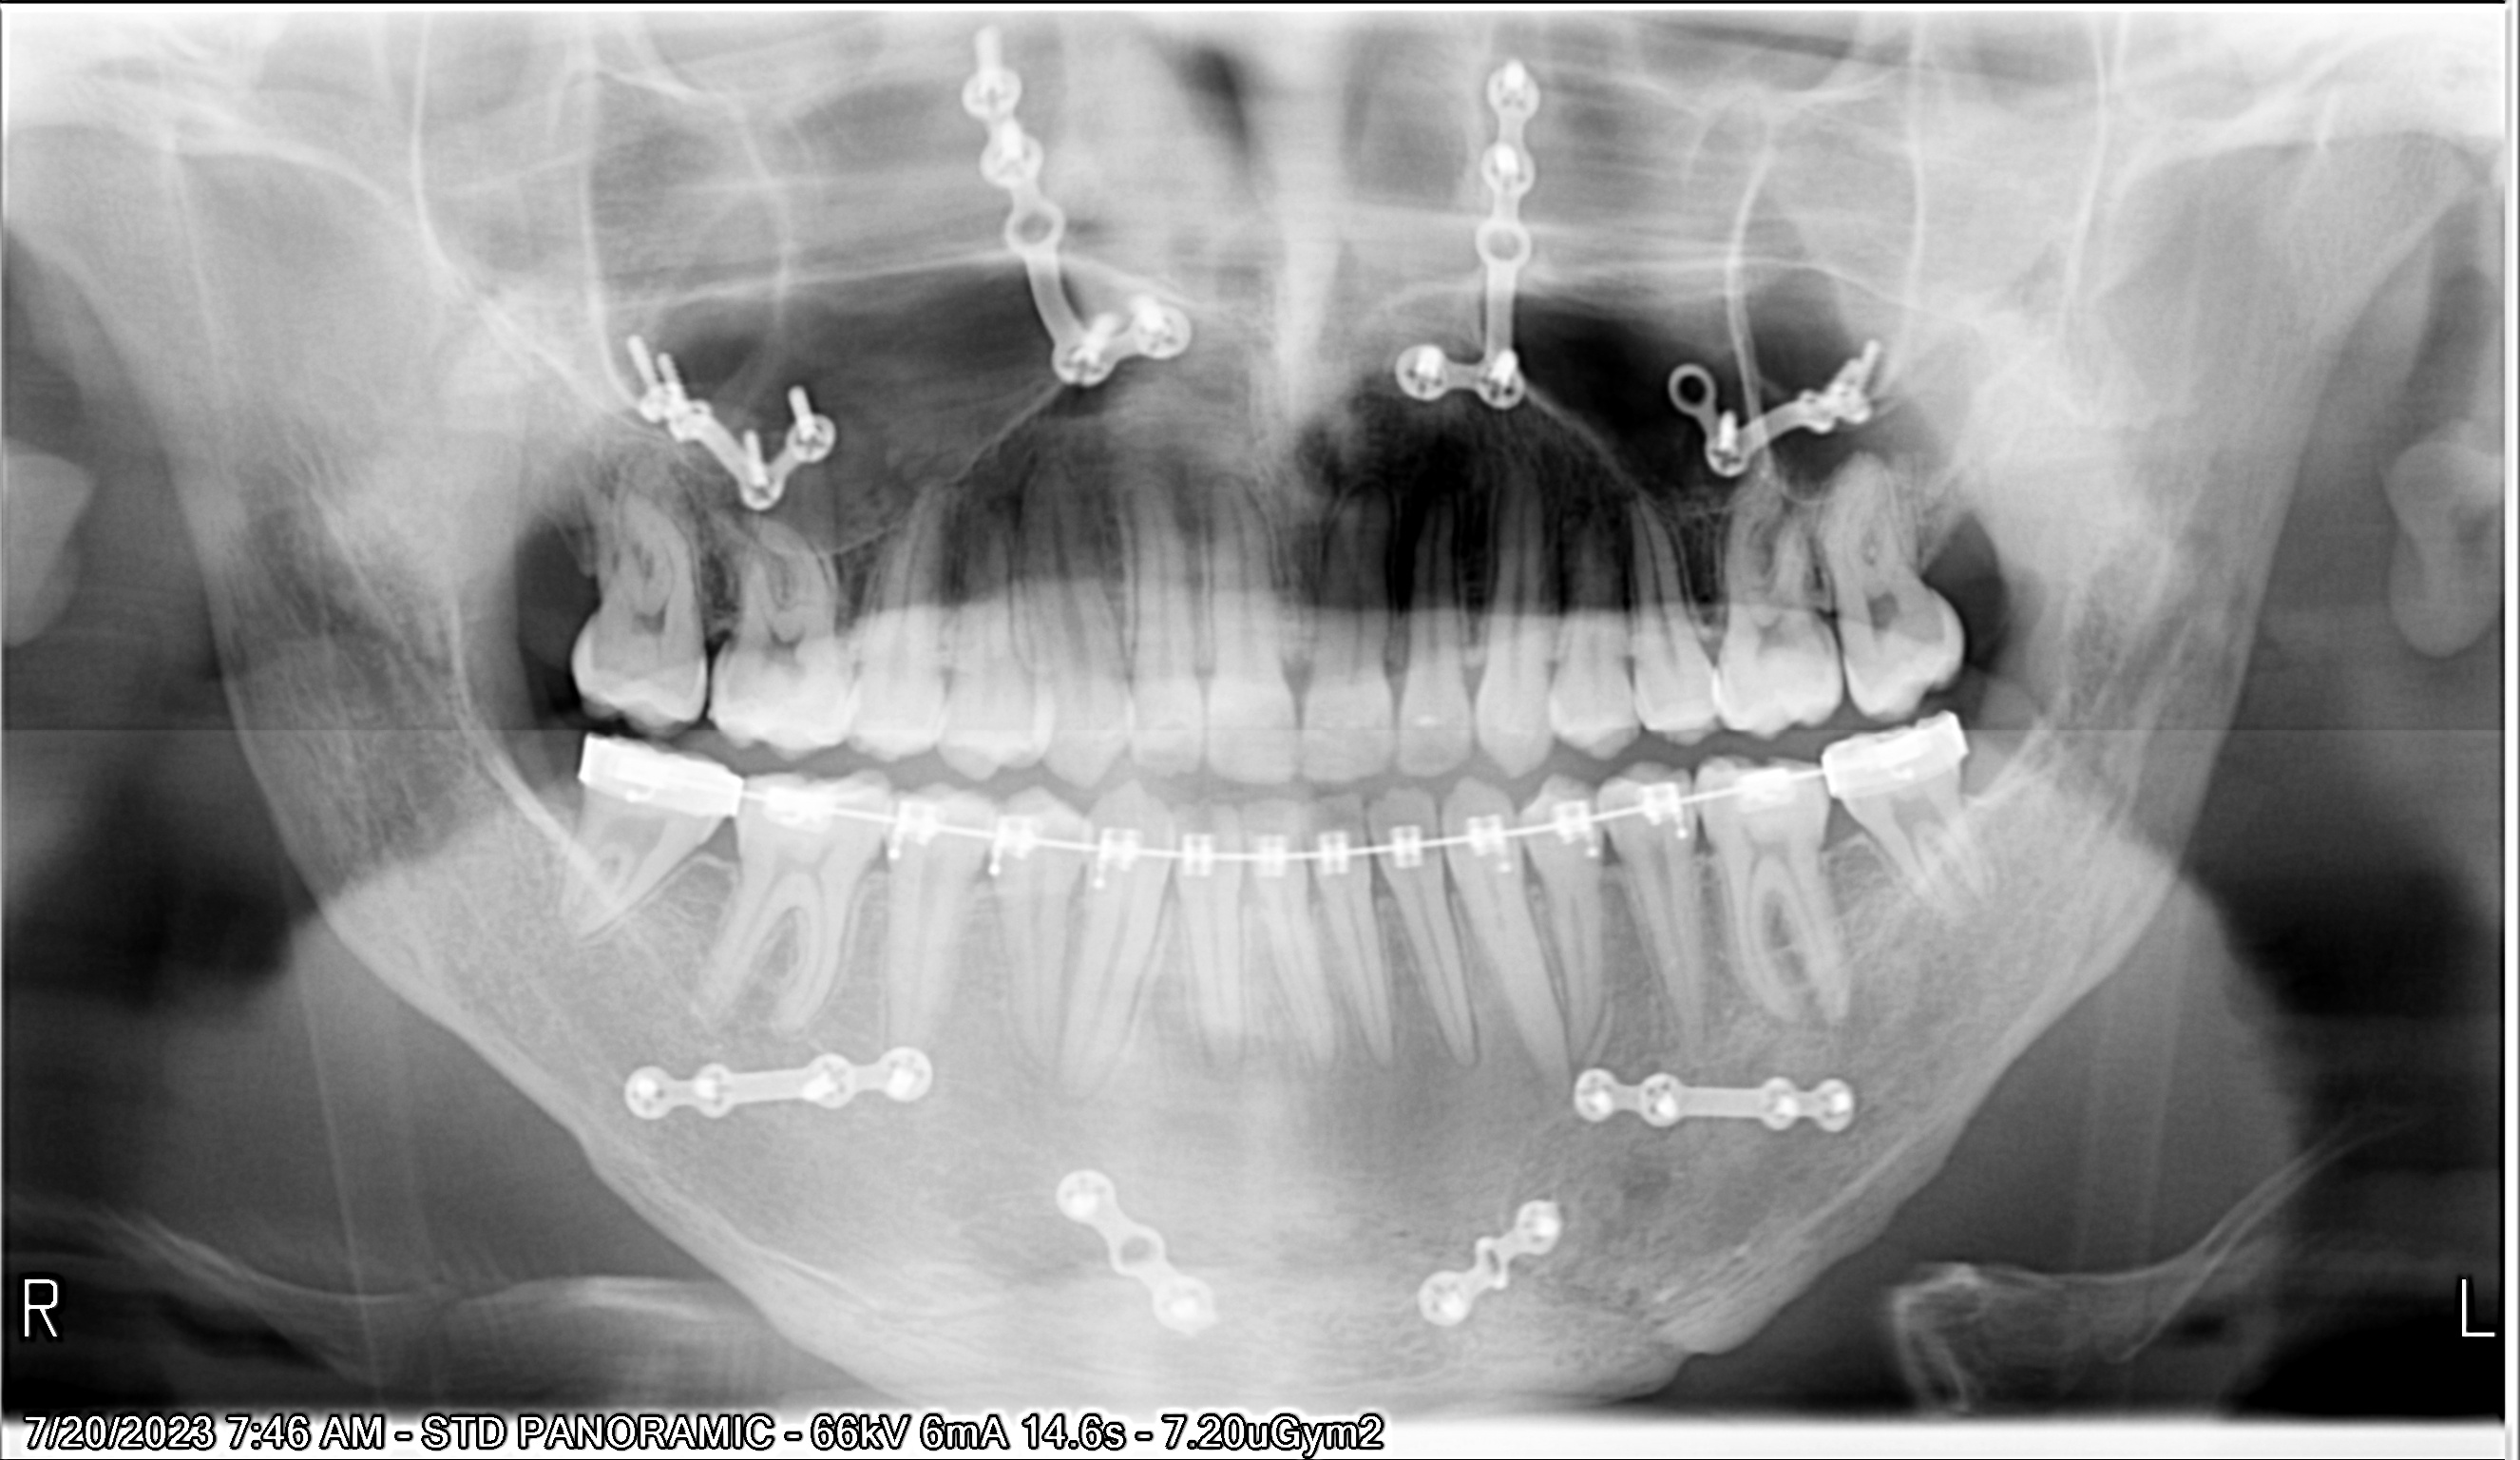ORD: (594, 747, 1973, 841)
SRD: (952, 21, 1204, 384), (1384, 61, 1546, 429), (1002, 1147, 1231, 1350), (592, 1022, 948, 1152), (1657, 313, 1923, 474), (637, 322, 841, 509), (1532, 1071, 1891, 1175), (1388, 1184, 1586, 1350)
